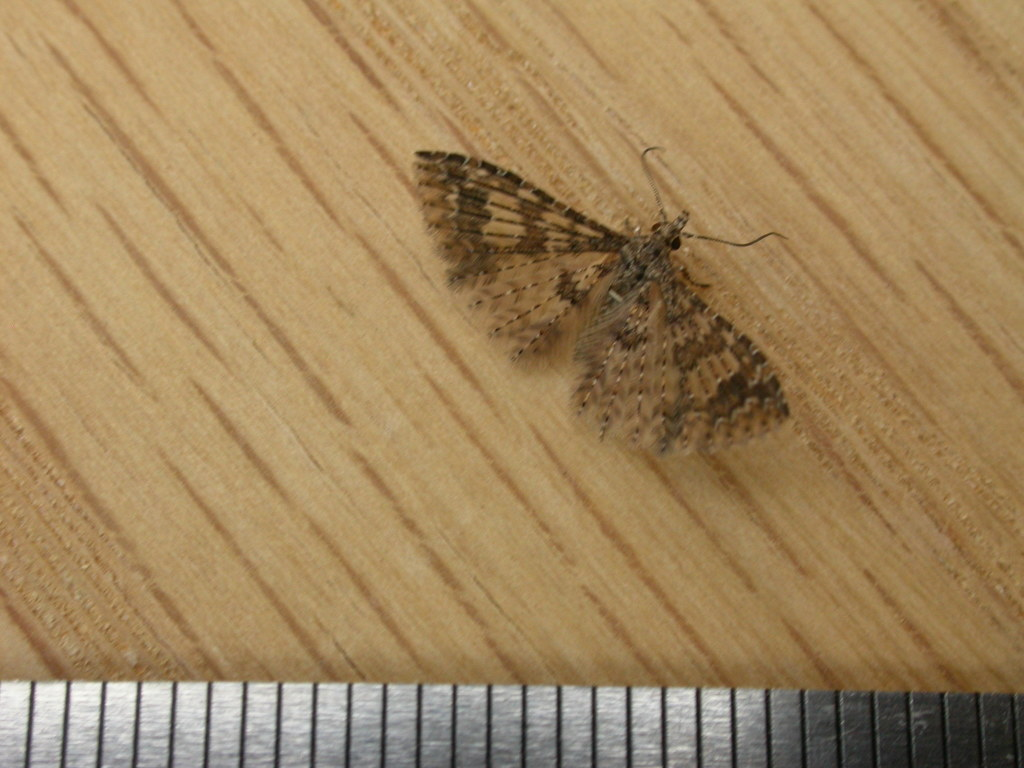Butterfly: (404, 132, 822, 480)
